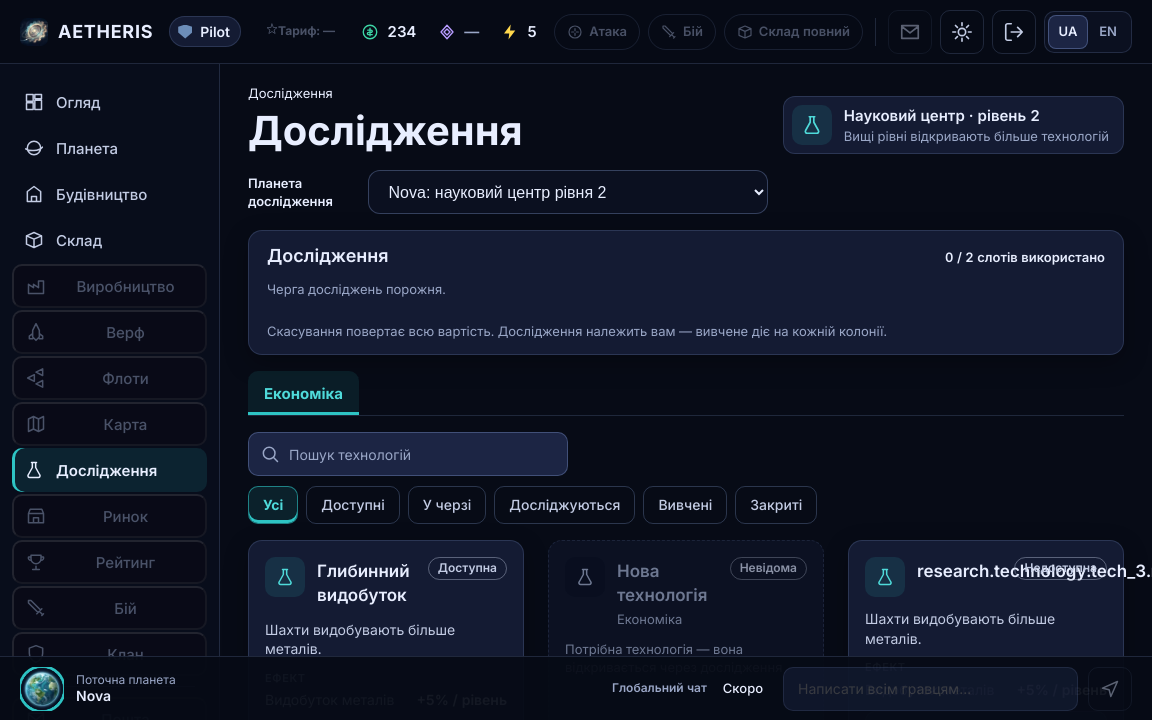
Test case: /planet/research: the elements of the design › keeps the unknown and the closed technologies under the chip Closed
Expected: the heading "Глибинний видобуток" is shown, [317,560,416,608]
Click the button "Закриті": (776, 505) [735,486,817,524]
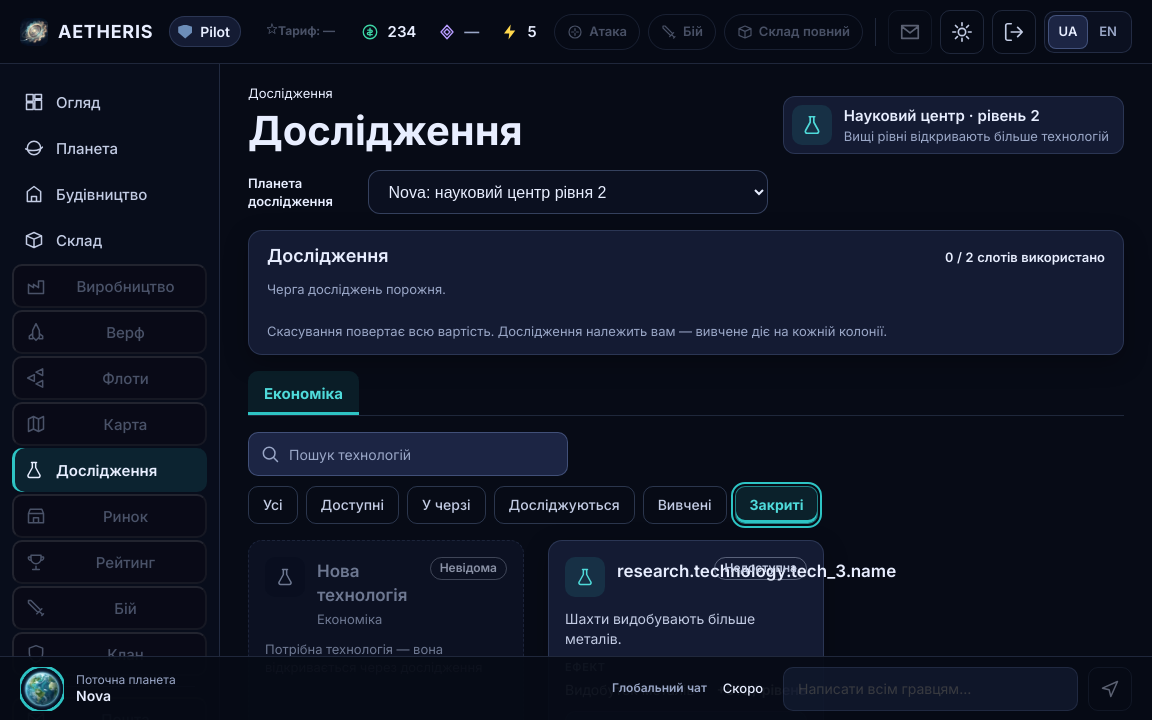
Expected: the heading "Глибинний видобуток" is gone
